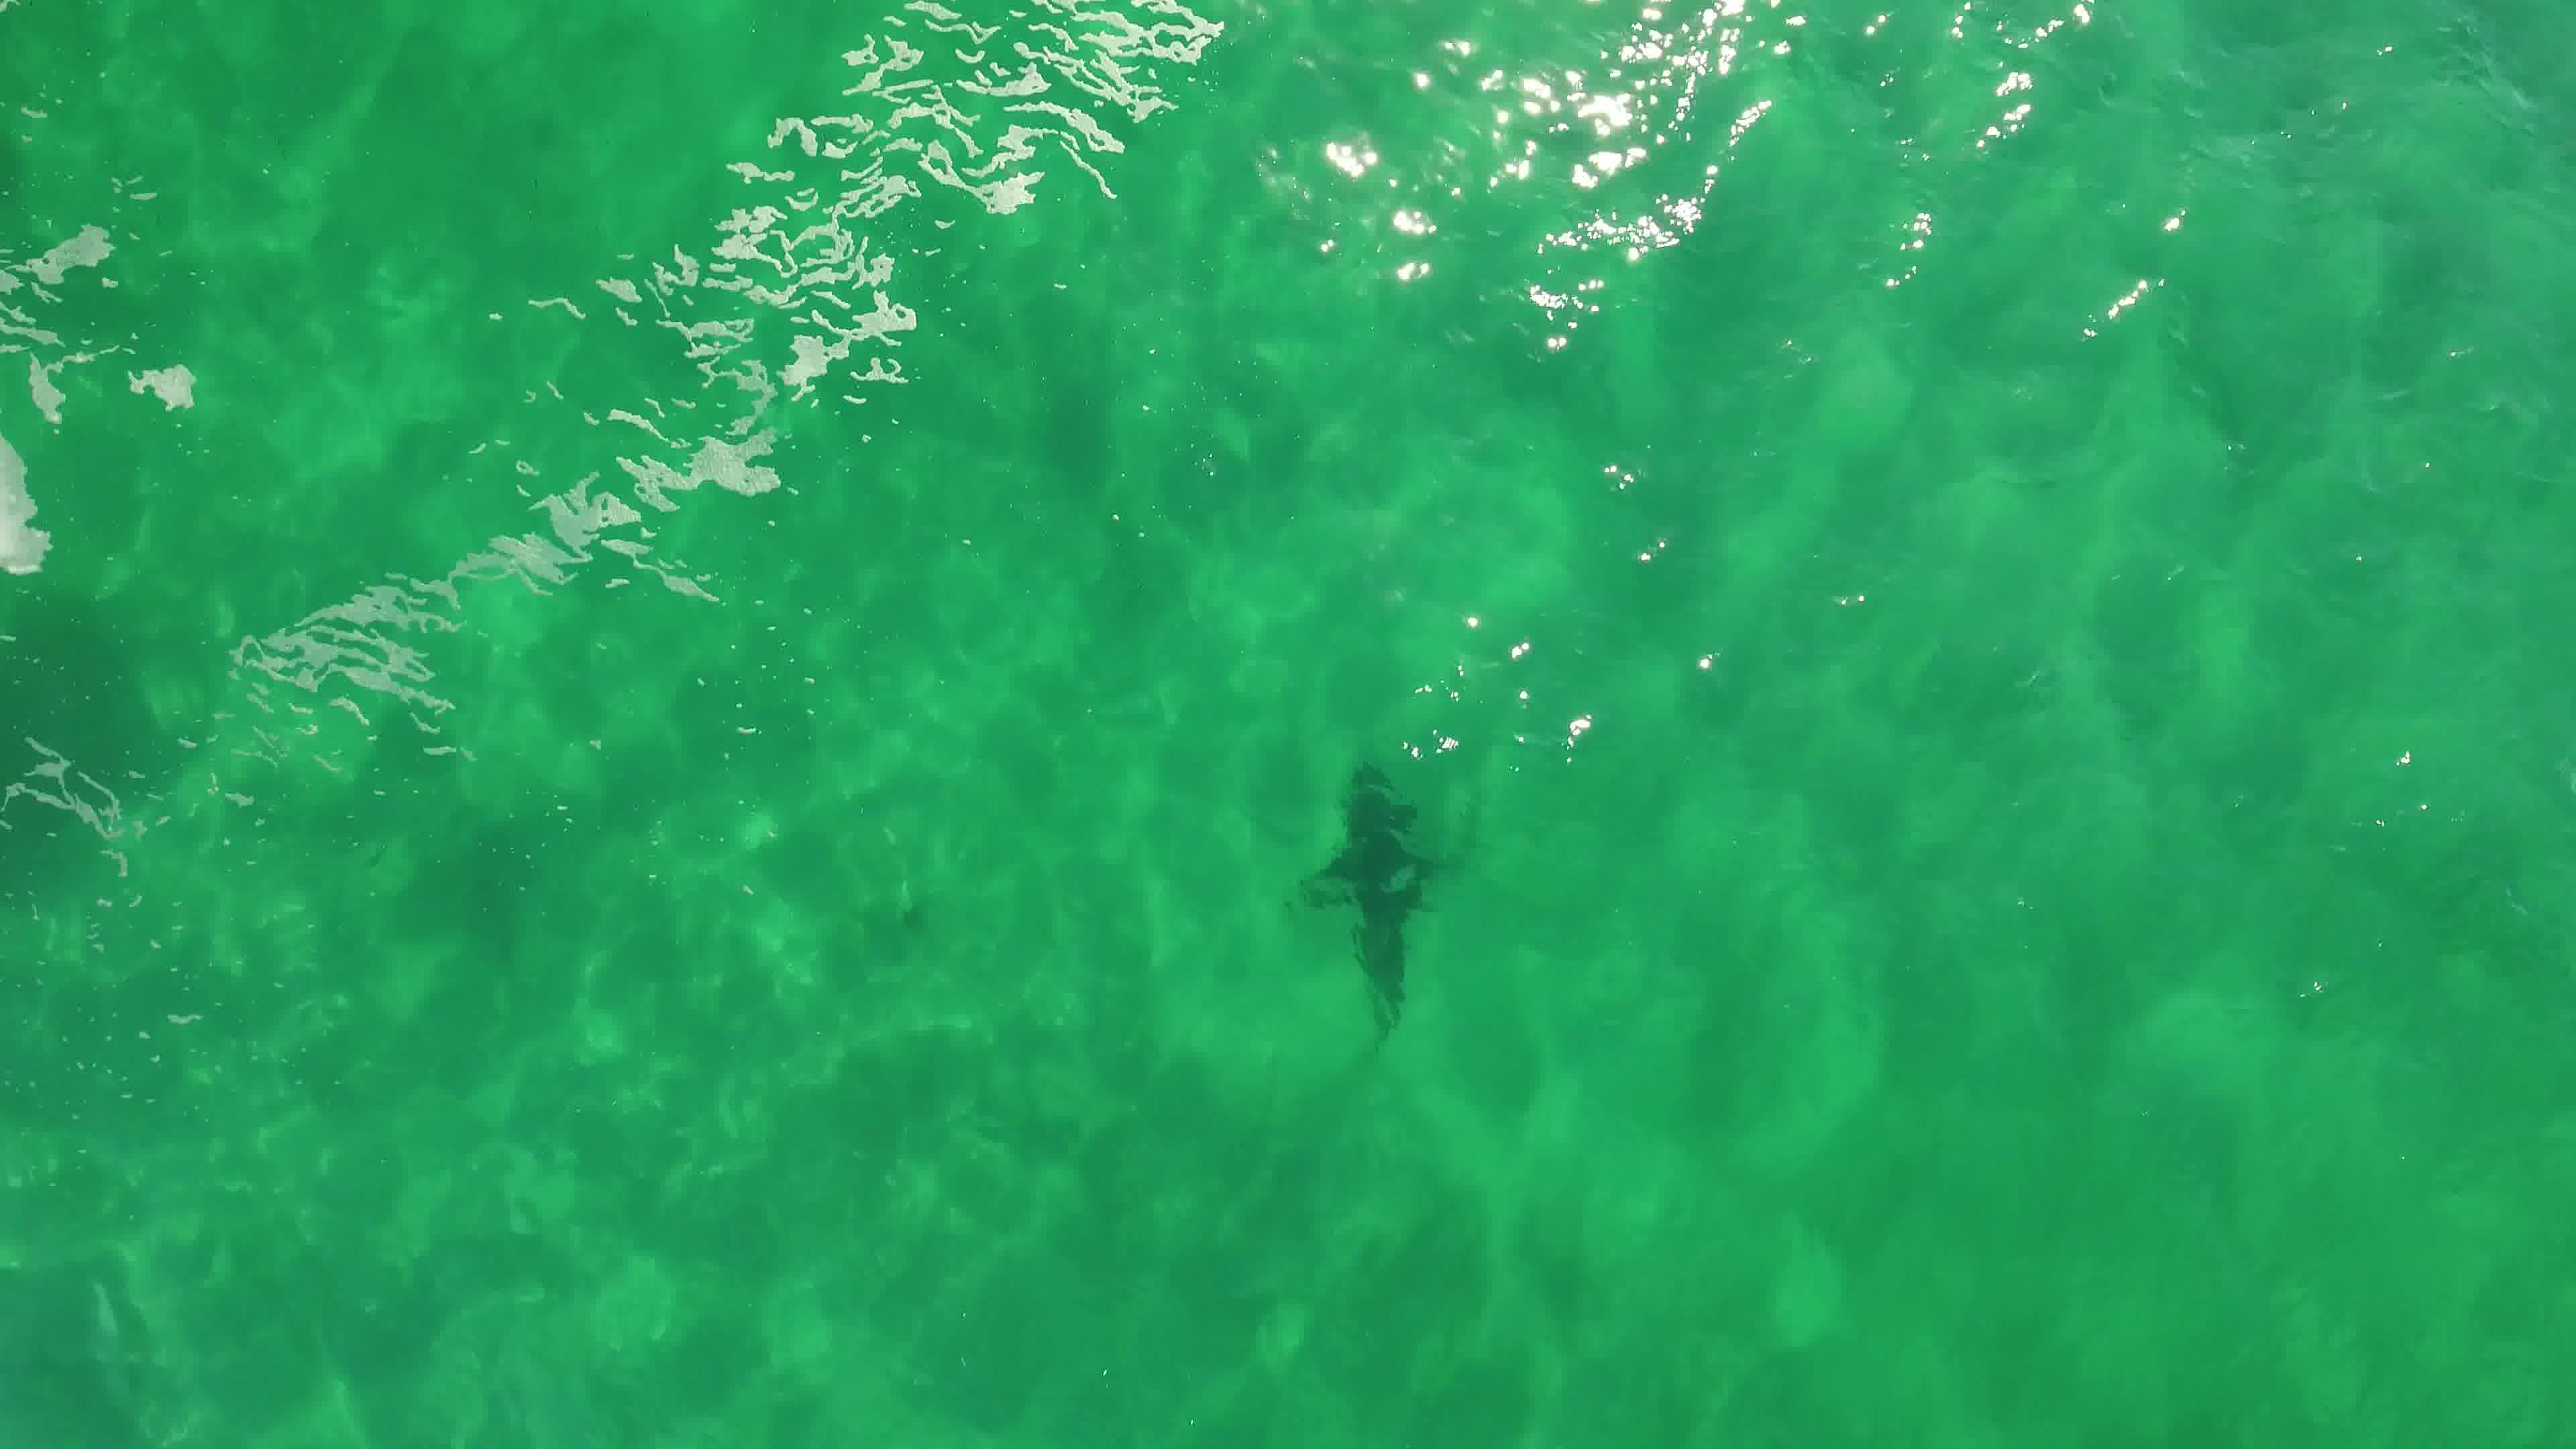shark: (1288, 752, 1453, 1040)
